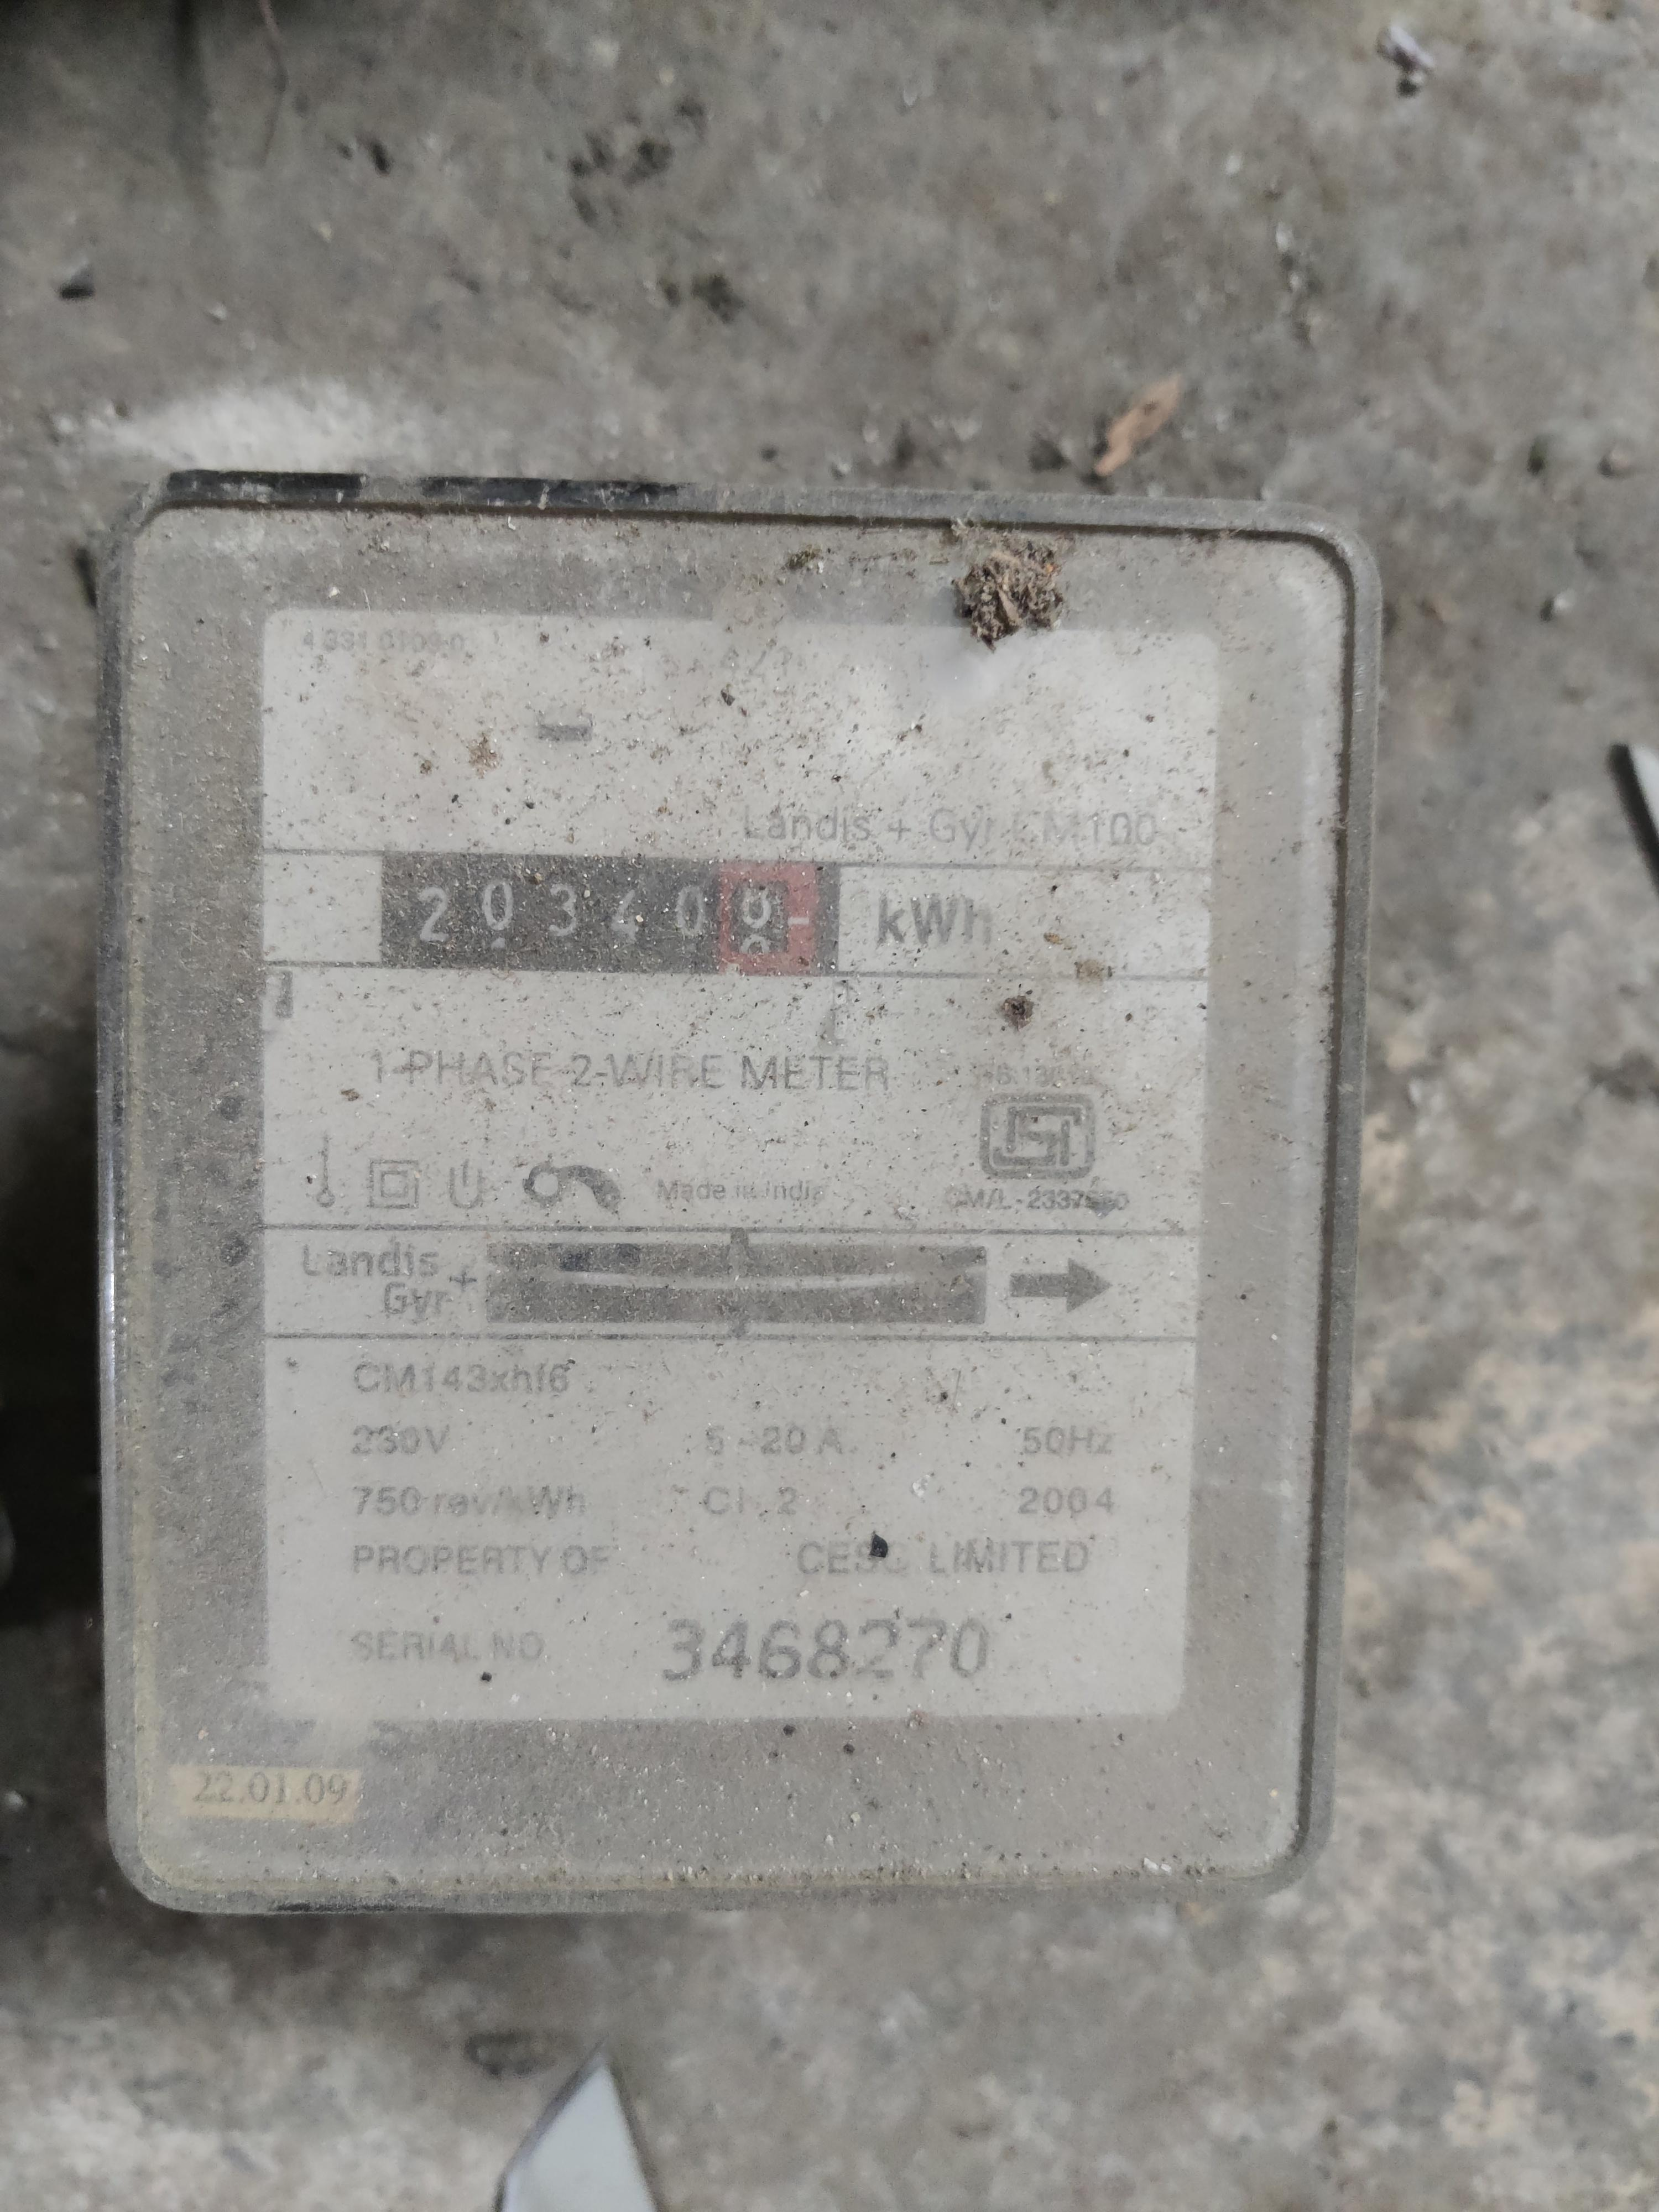meter_readings: (390, 857, 833, 974)
serial_number: (633, 1609, 1023, 1695)
